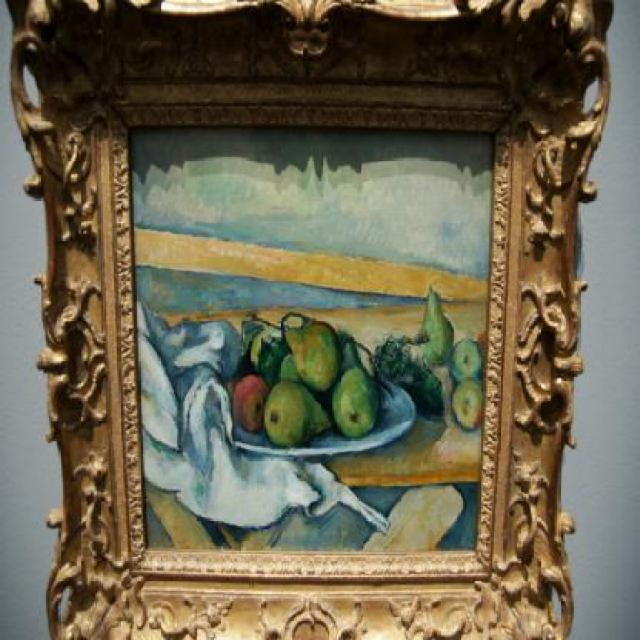Pear: (266, 376, 334, 447), (332, 340, 379, 442), (284, 317, 346, 392), (416, 288, 454, 364)
